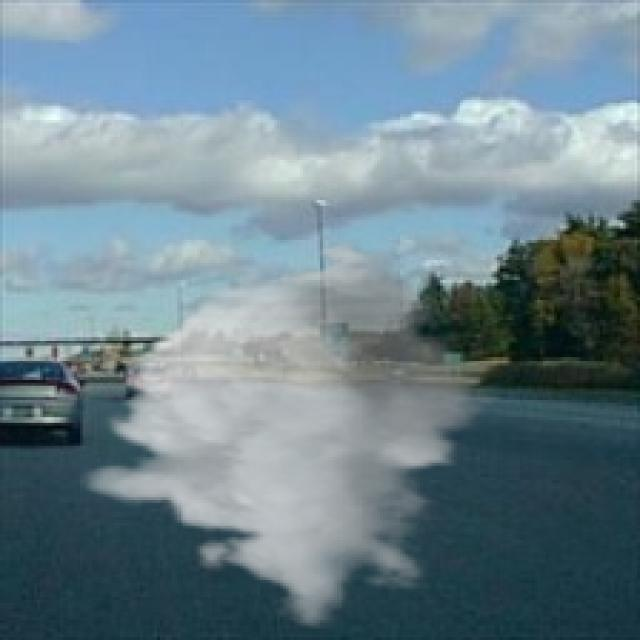smoke: (80, 237, 506, 629)
